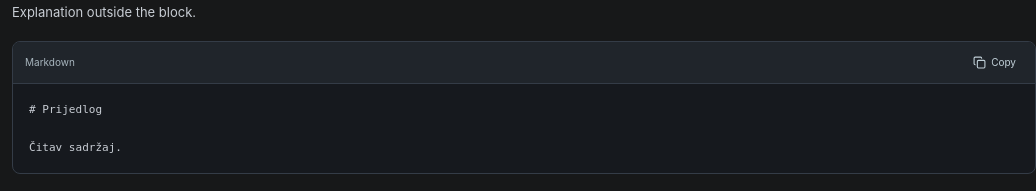
Test: copies a Markdown code block without its fences or surrounding response text
Click the button with aria-label "Copy Markdown" at {"x": 995, "y": 62}, box [966, 49, 1023, 76]
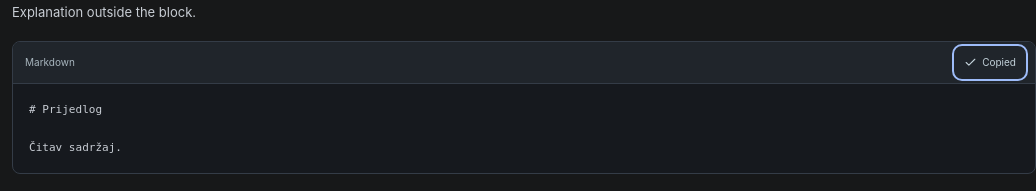
Now the message reads "Copied", box [982, 56, 1016, 68]
